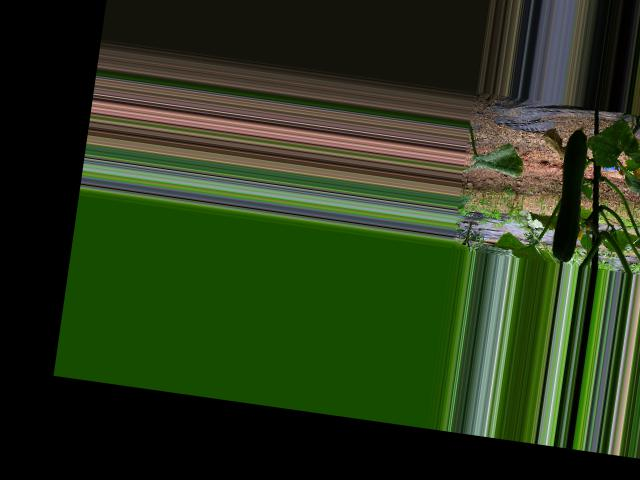cucumber: (549, 123, 592, 263)
